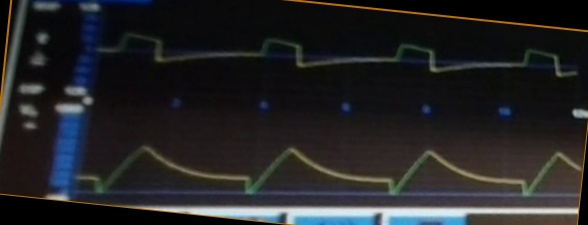Flow: (101, 29, 568, 93)
Leakage Volume: (81, 131, 572, 202)
